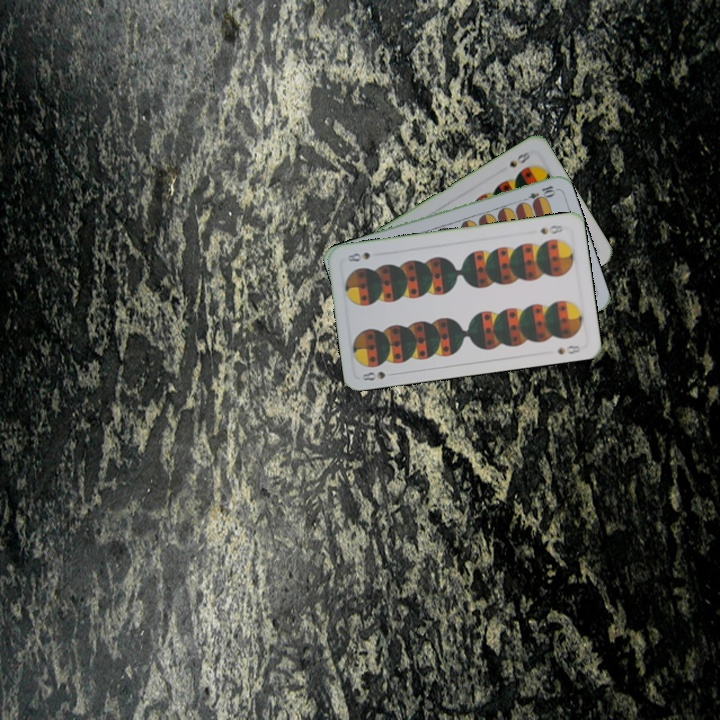E10: (518, 181, 558, 205)
S8: (358, 367, 399, 383), (505, 147, 533, 170), (536, 221, 565, 237)
